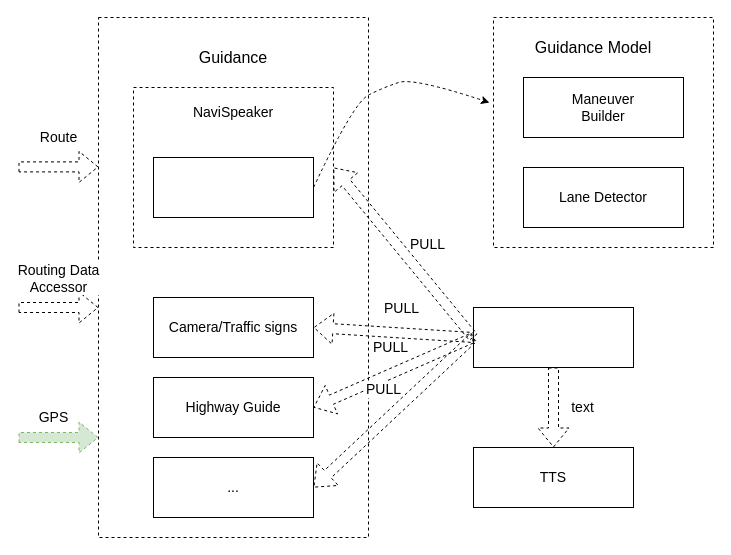
Image size: 731x555. Some labels were removed from this diagram. The shapes that lost their labels are listed below. From the top down, each one's box as (x1, y1, x2, y2) in pixels, then its label:
(152, 156, 314, 218): Guidance Model Accessor
(472, 306, 634, 368): Sound Arbiter
